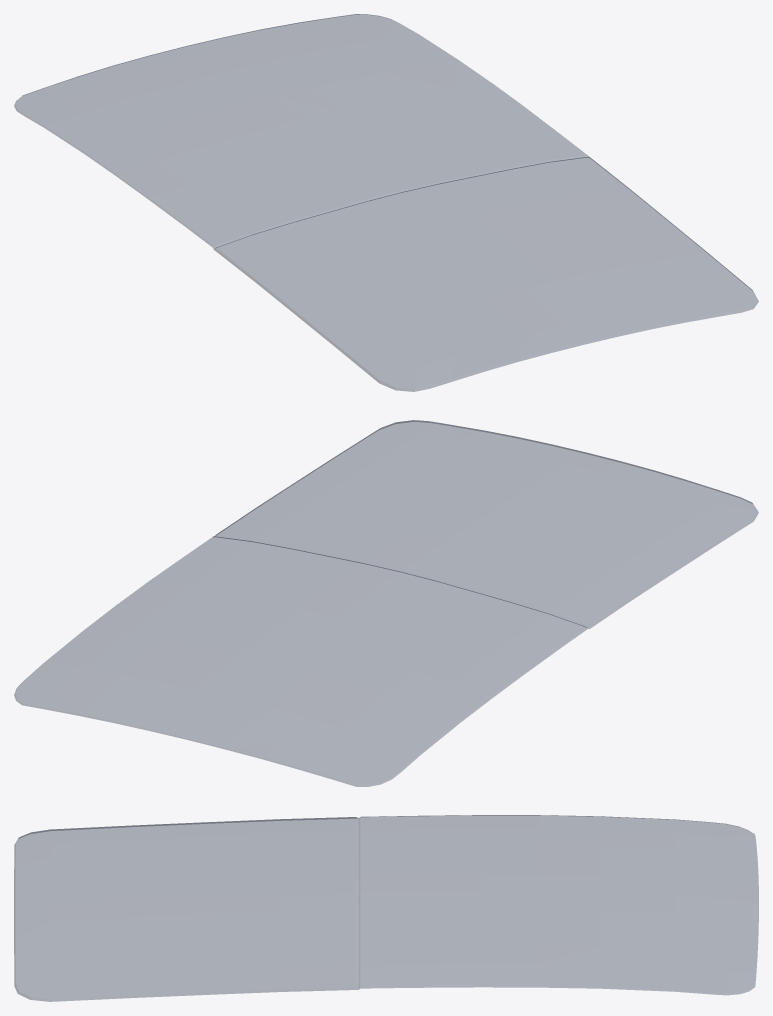
File: roof_glass.glb
3 views of the same model, one above another, from view 1: azimuth 30°, elevation 25°; view 2: azimuth 150°, elevation 25°; view 3: azimuth 270°, elevation 25° (orthographic). The views are drawn at different scales.
Parts seen in each view (by area): view 1: Roof_Glass; view 2: Roof_Glass; view 3: Roof_Glass.
Boxes of the visible parts, <box> form: Roof_Glass: <box>14,14,758,391</box>; Roof_Glass: <box>14,420,758,786</box>; Roof_Glass: <box>14,815,758,1001</box>.
Size of the model in its own units: 0.7735 by 0.0544 by 1.42.
